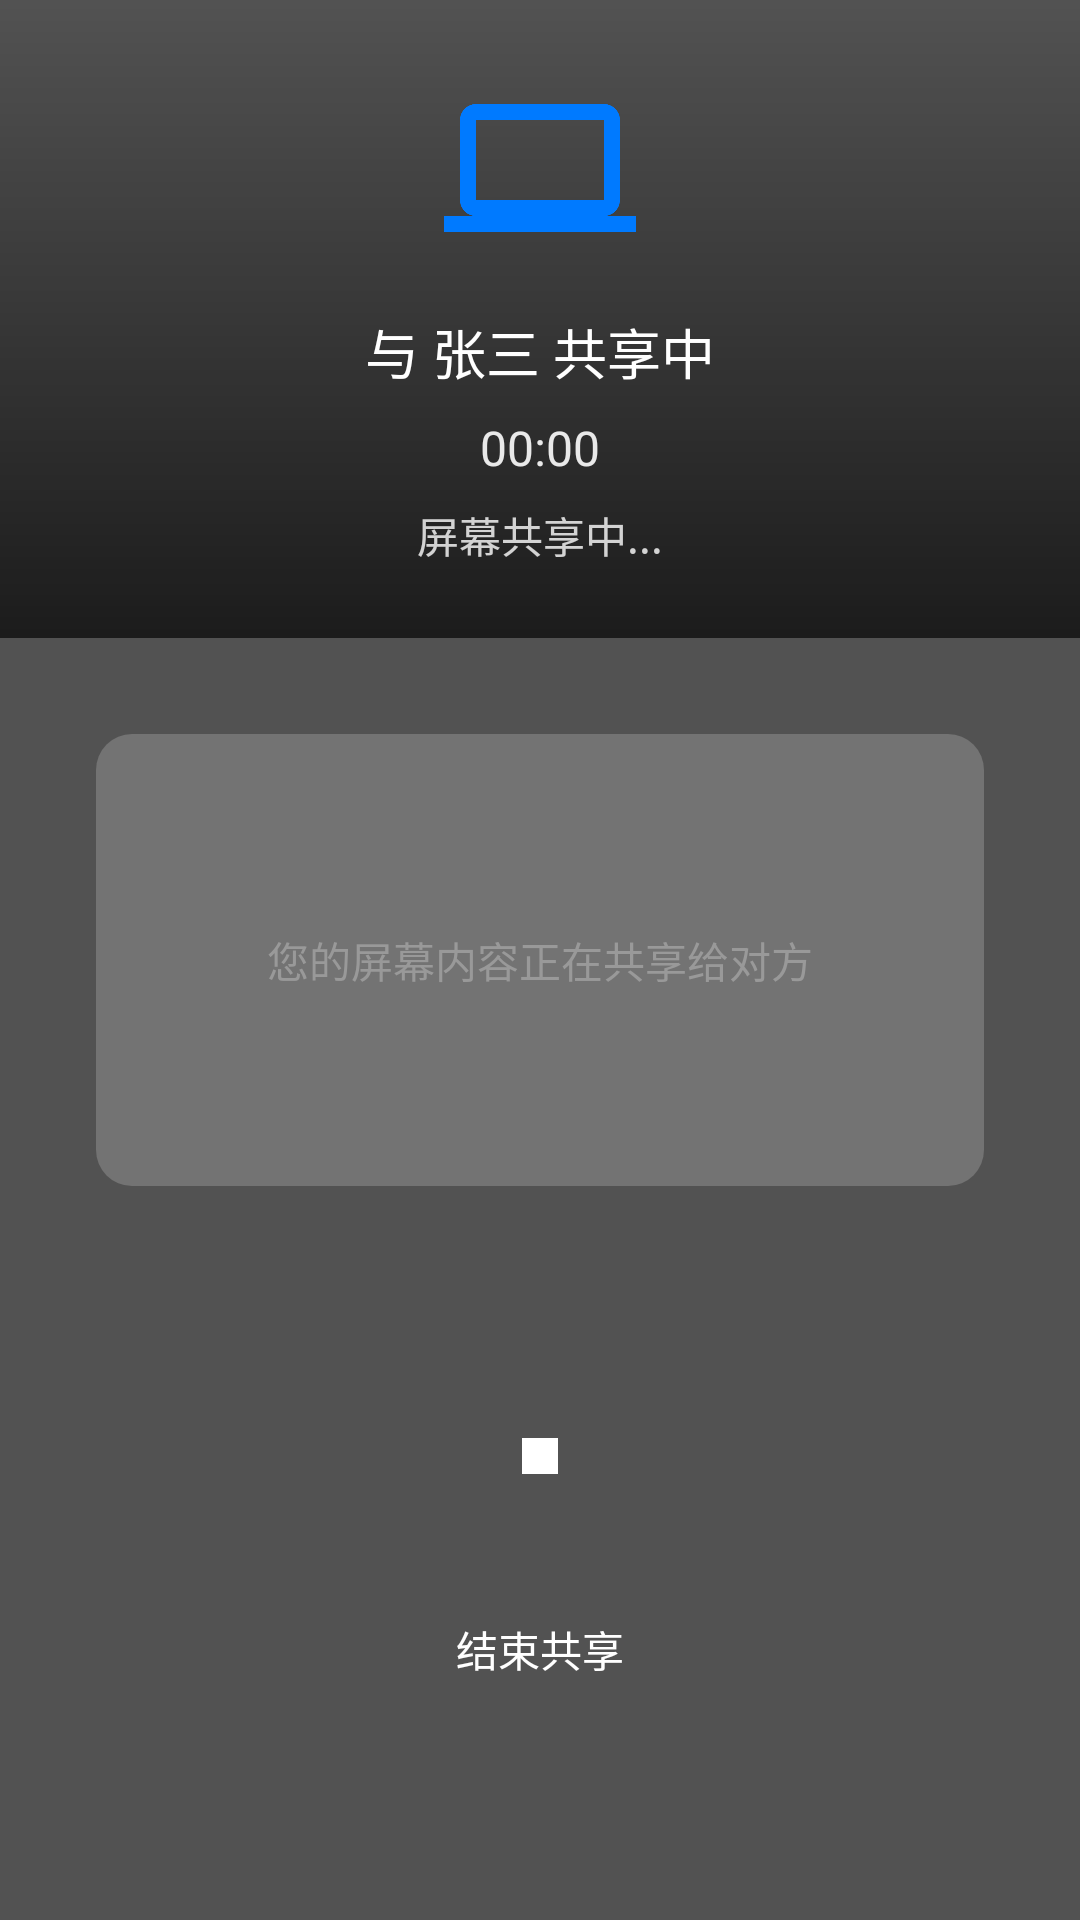

Named icons in this screenshot (1080px x 1920px) and their centers, [x,y]:
屏幕共享图标: [540,184]
